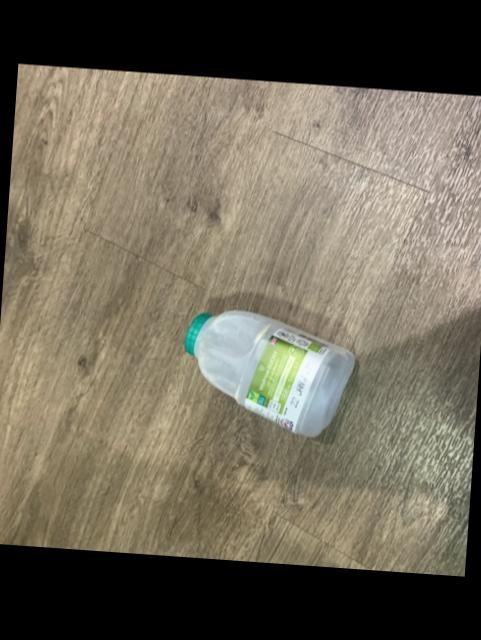plastic: (183, 312, 351, 438)
